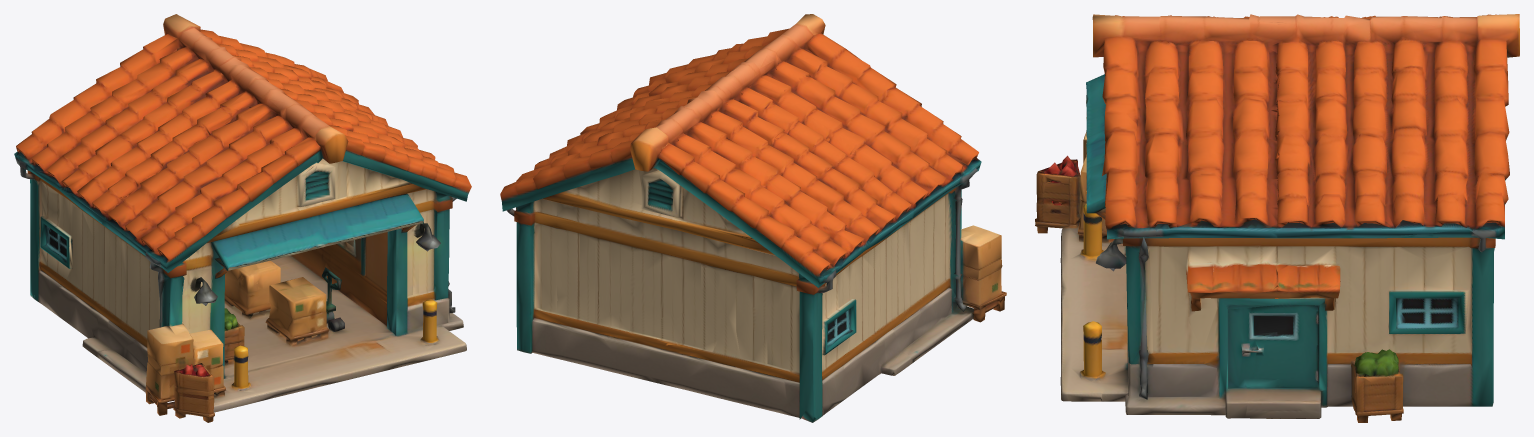
The model's file is Warehouse.fbx.
3 views of the same model, side by side, from view 1: azimuth 30°, elevation 25°; view 2: azimuth 150°, elevation 25°; view 3: azimuth 270°, elevation 25° (orthographic). The views are drawn at different scales.
Visible parts, largest first — view 1: tripo_node_aa65a4d4-d9cf-4ecc-9774-3146b0fa5329; view 2: tripo_node_aa65a4d4-d9cf-4ecc-9774-3146b0fa5329; view 3: tripo_node_aa65a4d4-d9cf-4ecc-9774-3146b0fa5329.
Part boxes in pixels (<box>): tripo_node_aa65a4d4-d9cf-4ecc-9774-3146b0fa5329: <box>14,14,471,422</box>; tripo_node_aa65a4d4-d9cf-4ecc-9774-3146b0fa5329: <box>500,14,1006,422</box>; tripo_node_aa65a4d4-d9cf-4ecc-9774-3146b0fa5329: <box>1035,14,1519,422</box>.
Bounding box in the file's own units: 98.07 × 66.58 × 94.24.
Materials: 1 (1 with a texture image).
